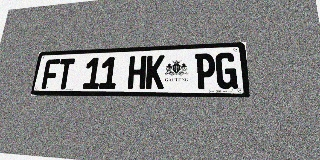1: (82, 57, 102, 89), (99, 57, 118, 89)
F: (41, 59, 60, 89)
G: (215, 52, 238, 89)
H: (127, 56, 147, 89)
K: (145, 55, 165, 89)
P: (195, 53, 216, 89)
T: (56, 58, 75, 89)
